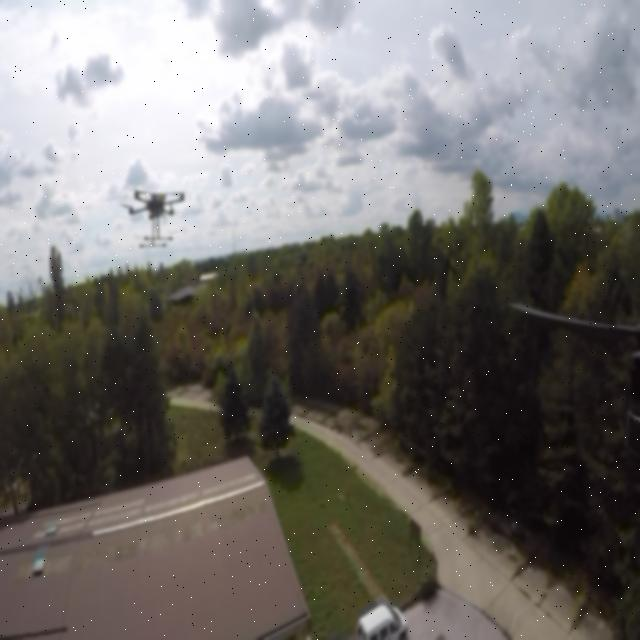UAV: (115, 173, 197, 255)
